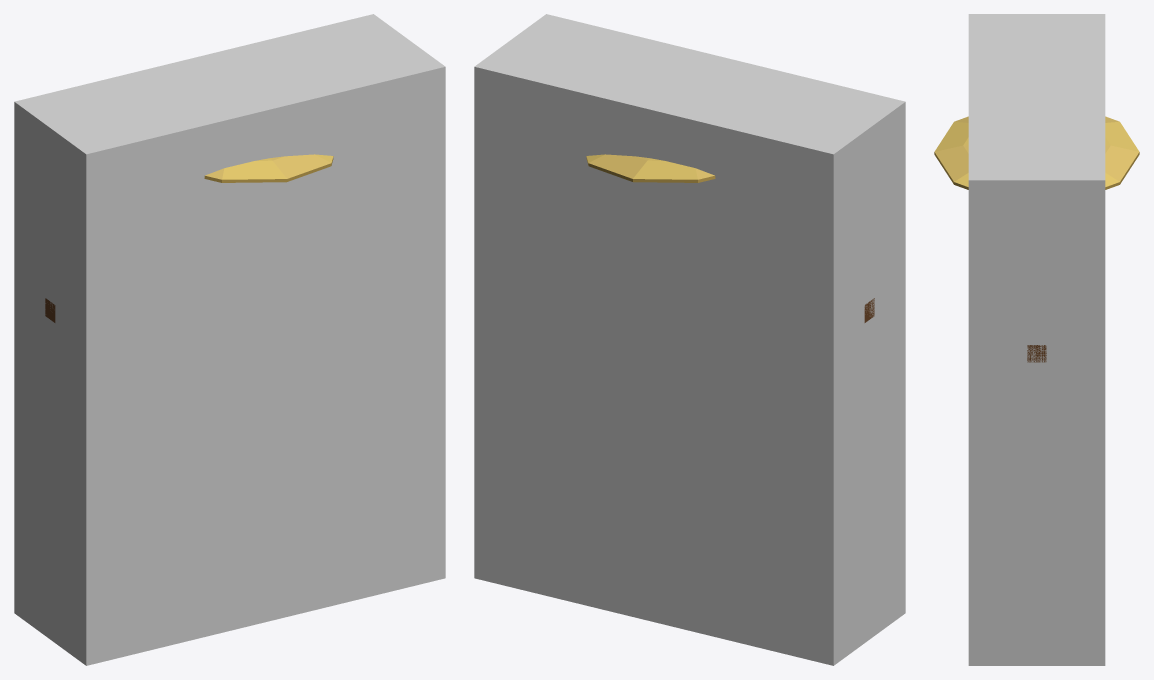
Rendered from FMS_Scarecrow_Classic.fbx.
3 views of the same model, side by side, from view 1: azimuth 30°, elevation 25°; view 2: azimuth 150°, elevation 25°; view 3: azimuth 270°, elevation 25° (orthographic). The views are drawn at different scales.
Visible parts, largest first — view 1: FMS_Scarecrow_Classic_Col, FMS_Scarecrow_Classic_LOD0; view 2: FMS_Scarecrow_Classic_Col, FMS_Scarecrow_Classic_LOD0; view 3: FMS_Scarecrow_Classic_Col, FMS_Scarecrow_Classic_LOD0.
Boxes of the visible parts, x1,y1,x2,y2 form: FMS_Scarecrow_Classic_Col: (14,14,445,665); FMS_Scarecrow_Classic_LOD0: (45,154,333,322); FMS_Scarecrow_Classic_Col: (474,14,905,665); FMS_Scarecrow_Classic_LOD0: (586,154,874,322); FMS_Scarecrow_Classic_Col: (968,14,1105,665); FMS_Scarecrow_Classic_LOD0: (934,116,1139,362).
Size of what is drawn, in the model's own units: 1.44 by 1.96 by 0.75.
Materials: 1 (1 with a texture image).
